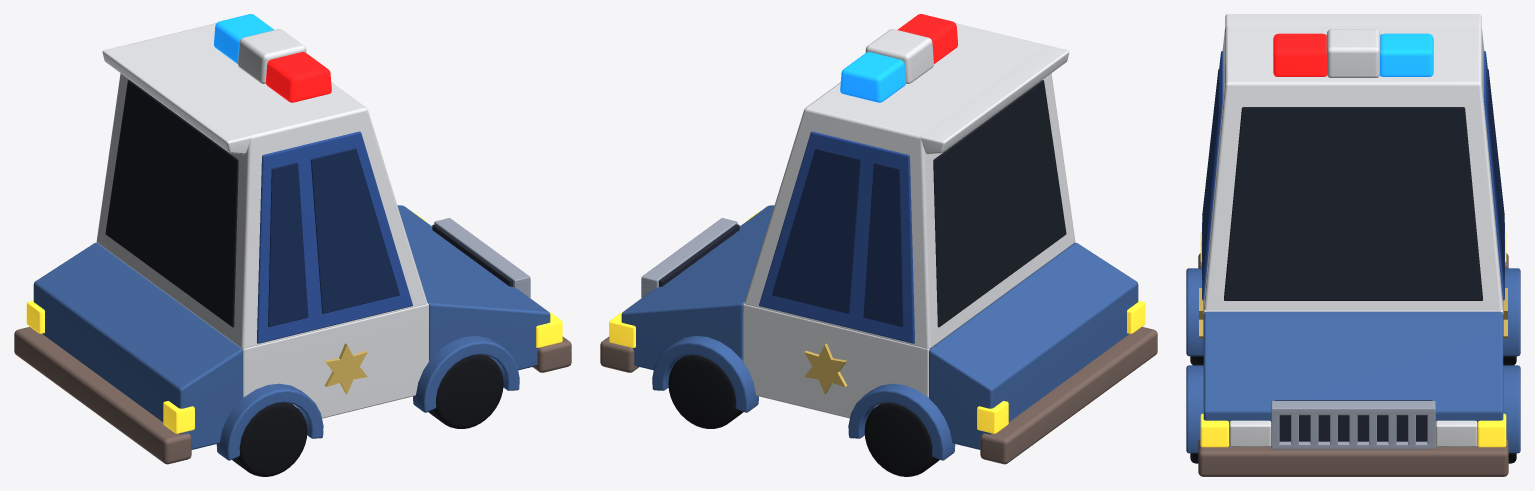
The model's file is carro policia brinquedo.fbx.
3 views of the same model, side by side, from view 1: azimuth 30°, elevation 25°; view 2: azimuth 150°, elevation 25°; view 3: azimuth 270°, elevation 25° (orthographic).
Visible parts, largest first — view 1: Cabine_Alta_Branca, Corpo_Traseiro_PortaMalas_Azul, Vigia_Traseiro_Vidro, Corpo_Central_Portas_Branco, Corpo_Dianteiro_Capo_Azul, Vidro_Lateral_Diant_Dir, Moldura_Janela_Lateral_Azul_Dir, Parachoque_Traseiro_Taupe, Vidro_Lateral_Tras_Dir, Cabine_Aba_Traseira_Teto, Roda_Diant_Dir_Roda_Preta, Roda_Tras_Dir_Roda_Preta (+11 smaller); view 2: Cabine_Alta_Branca, Corpo_Traseiro_PortaMalas_Azul, Vigia_Traseiro_Vidro, Corpo_Central_Portas_Branco, Corpo_Dianteiro_Capo_Azul, Vidro_Lateral_Diant_Esq, Moldura_Janela_Lateral_Azul_Esq, Parachoque_Traseiro_Taupe, Vidro_Lateral_Tras_Esq, Cabine_Aba_Traseira_Teto, Roda_Diant_Esq_Roda_Preta, Roda_Tras_Esq_Roda_Preta (+11 smaller); view 3: ParaBrisa_Frontal_Vidro, Corpo_Dianteiro_Capo_Azul, Cabine_Alta_Branca, Parachoque_Dianteiro_Taupe, Cabine_Aba_Traseira_Teto, Grade_Frontal_Fundo, Sirene_Central_Branca, Grade_Barra_Superior, Sirene_Direita_Vermelha, Sirene_Esquerda_Azul, Roda_Diant_Dir_Arco_Paralama_Azul, Roda_Diant_Esq_Arco_Paralama_Azul (+14 smaller).
Part boxes in pixels (bbox=[...]): Cabine_Alta_Branca: bbox=[96, 23, 427, 348]; Corpo_Traseiro_PortaMalas_Azul: bbox=[33, 242, 242, 449]; Vigia_Traseiro_Vidro: bbox=[105, 80, 238, 327]; Corpo_Central_Portas_Branco: bbox=[96, 242, 428, 418]; Corpo_Dianteiro_Capo_Azul: bbox=[397, 205, 550, 370]; Vidro_Lateral_Diant_Dir: bbox=[311, 148, 399, 313]; Moldura_Janela_Lateral_Azul_Dir: bbox=[257, 131, 412, 343]; Parachoque_Traseiro_Taupe: bbox=[14, 327, 191, 464]; Vidro_Lateral_Tras_Dir: bbox=[268, 162, 308, 326]; Cabine_Aba_Traseira_Teto: bbox=[102, 45, 251, 154]; Roda_Diant_Dir_Roda_Preta: bbox=[428, 354, 503, 428]; Roda_Tras_Dir_Roda_Preta: bbox=[232, 402, 307, 476]; Cabine_Alta_Branca: bbox=[744, 23, 1075, 348]; Corpo_Traseiro_PortaMalas_Azul: bbox=[929, 242, 1138, 449]; Vigia_Traseiro_Vidro: bbox=[933, 80, 1066, 327]; Corpo_Central_Portas_Branco: bbox=[743, 242, 1075, 418]; Corpo_Dianteiro_Capo_Azul: bbox=[621, 205, 774, 370]; Vidro_Lateral_Diant_Esq: bbox=[772, 148, 860, 313]; Moldura_Janela_Lateral_Azul_Esq: bbox=[759, 131, 914, 343]; Parachoque_Traseiro_Taupe: bbox=[980, 327, 1157, 464]; Vidro_Lateral_Tras_Esq: bbox=[863, 162, 903, 326]; Cabine_Aba_Traseira_Teto: bbox=[920, 45, 1069, 154]; Roda_Diant_Esq_Roda_Preta: bbox=[668, 354, 743, 428]; Roda_Tras_Esq_Roda_Preta: bbox=[864, 402, 939, 476]; ParaBrisa_Frontal_Vidro: bbox=[1224, 107, 1482, 300]; Corpo_Dianteiro_Capo_Azul: bbox=[1203, 311, 1503, 442]; Cabine_Alta_Branca: bbox=[1204, 25, 1502, 310]; Parachoque_Dianteiro_Taupe: bbox=[1198, 439, 1508, 476]; Cabine_Aba_Traseira_Teto: bbox=[1225, 14, 1481, 26]; Grade_Frontal_Fundo: bbox=[1275, 400, 1431, 441]; Sirene_Central_Branca: bbox=[1326, 29, 1380, 77]; Grade_Barra_Superior: bbox=[1271, 401, 1435, 415]; Sirene_Direita_Vermelha: bbox=[1273, 33, 1326, 76]; Sirene_Esquerda_Azul: bbox=[1380, 33, 1433, 76]; Roda_Diant_Dir_Arco_Paralama_Azul: bbox=[1186, 365, 1203, 453]; Roda_Diant_Esq_Arco_Paralama_Azul: bbox=[1503, 365, 1520, 453].
Size of the model in its own units: 1.17 by 0.977 by 0.814.
